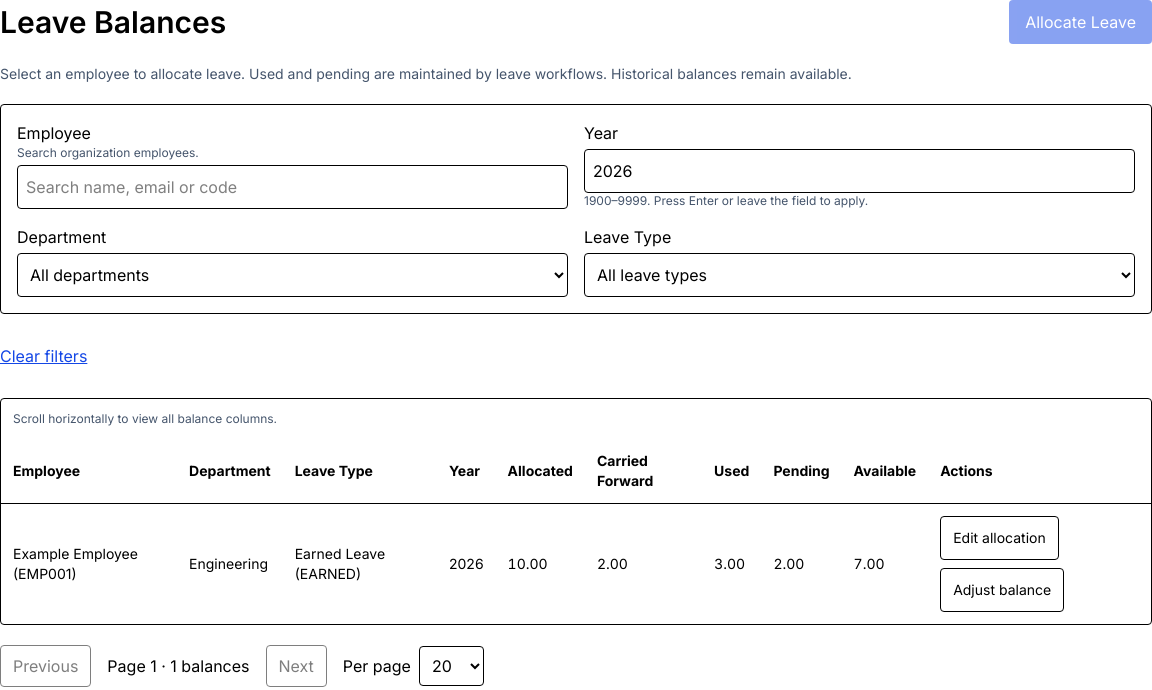
Test: Phase 13 balance administration › edits only entitlement counters and preserves read-only workflow counters
Click the button "Edit allocation" at (999, 538), box [940,516,1059,560]
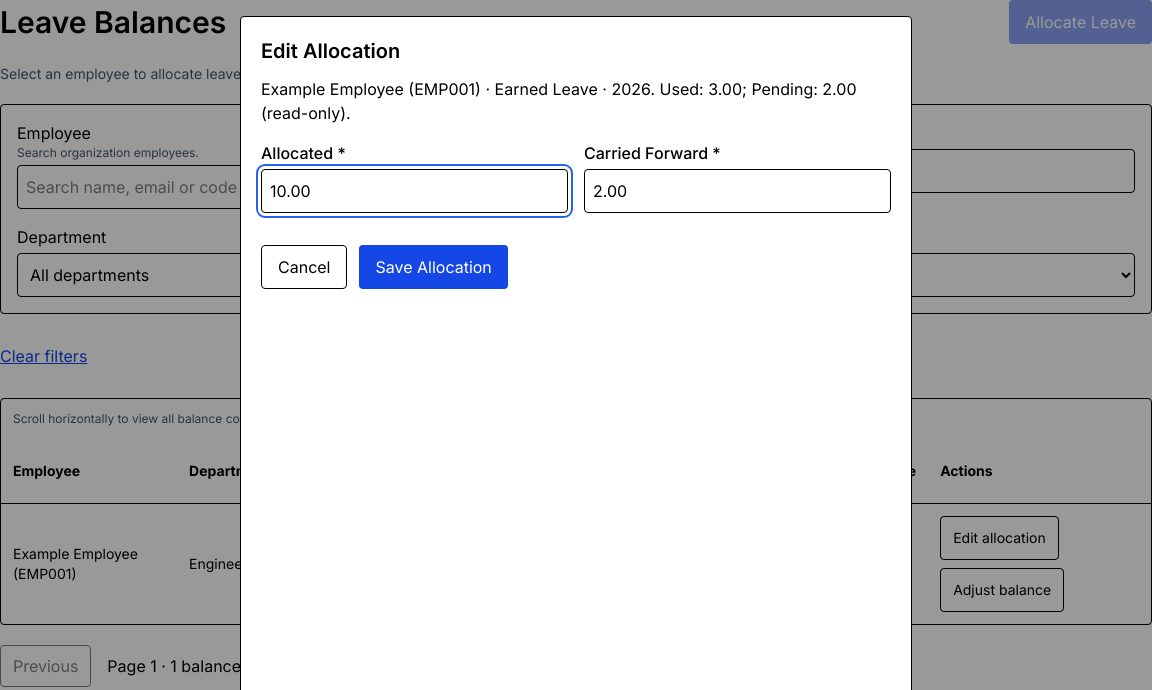
Expected: the text "Used: 3.00; Pending: 2.00" is shown, [261,77,891,125]
Expected: the field labelled "Allocated *" holds "10.00"
Replace the text in the field labelled "Allocated *" with "12.50" at (414, 191), box [261,169,568,213]
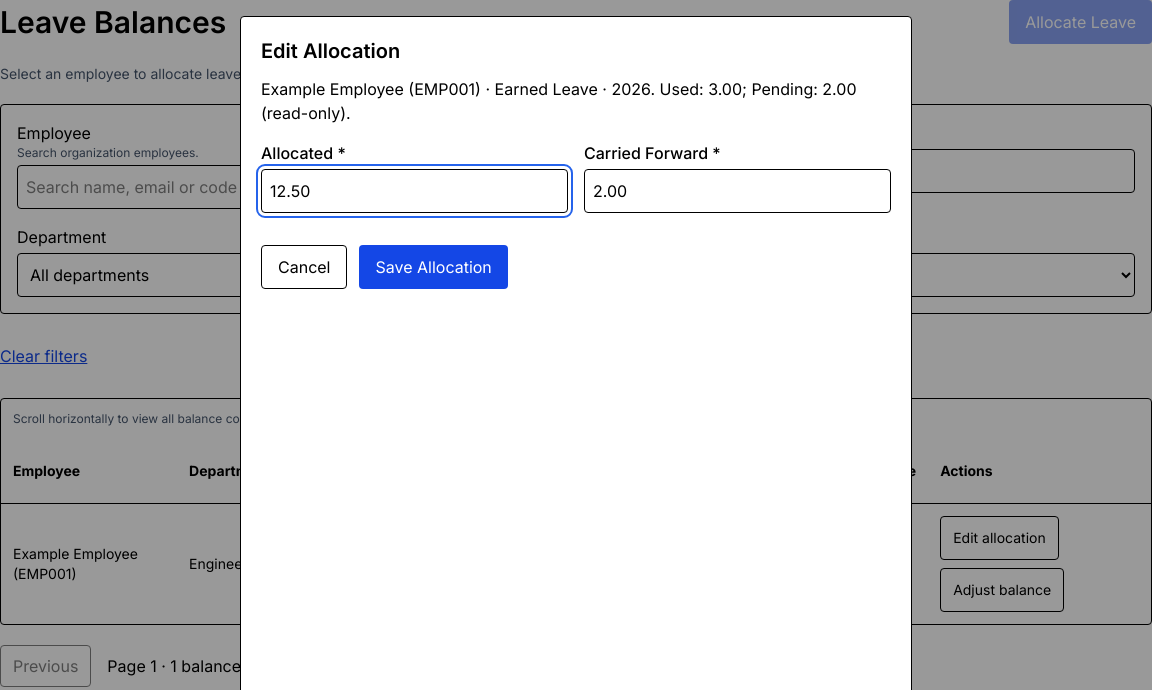
Click the button "Save Allocation" at (434, 267), box [360,245,508,289]
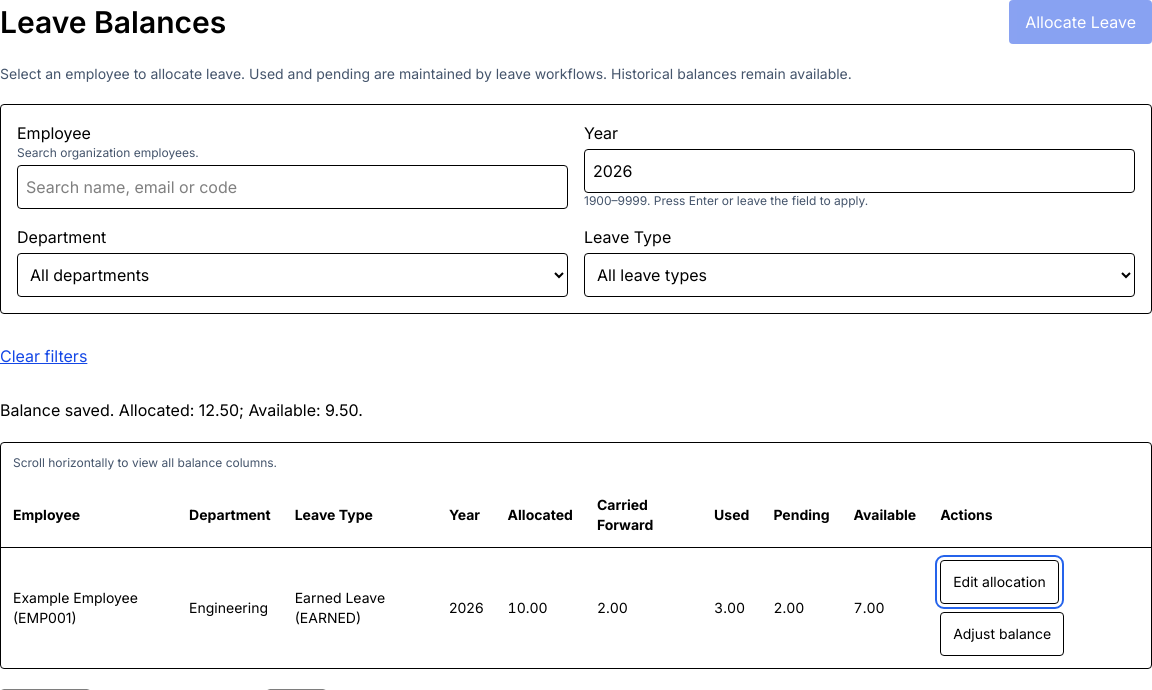
Expected: the text "Balance saved. Allocated: 12.50; Available: 9.50." is shown, [0,400,363,420]
